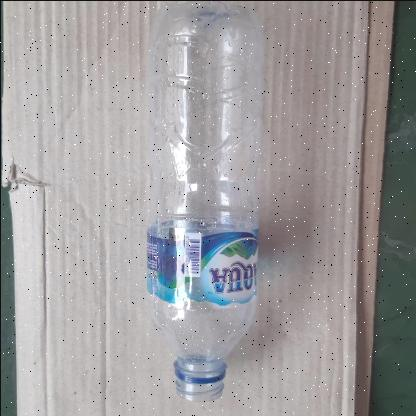Plastic Bottle: (145, 0, 263, 402)
